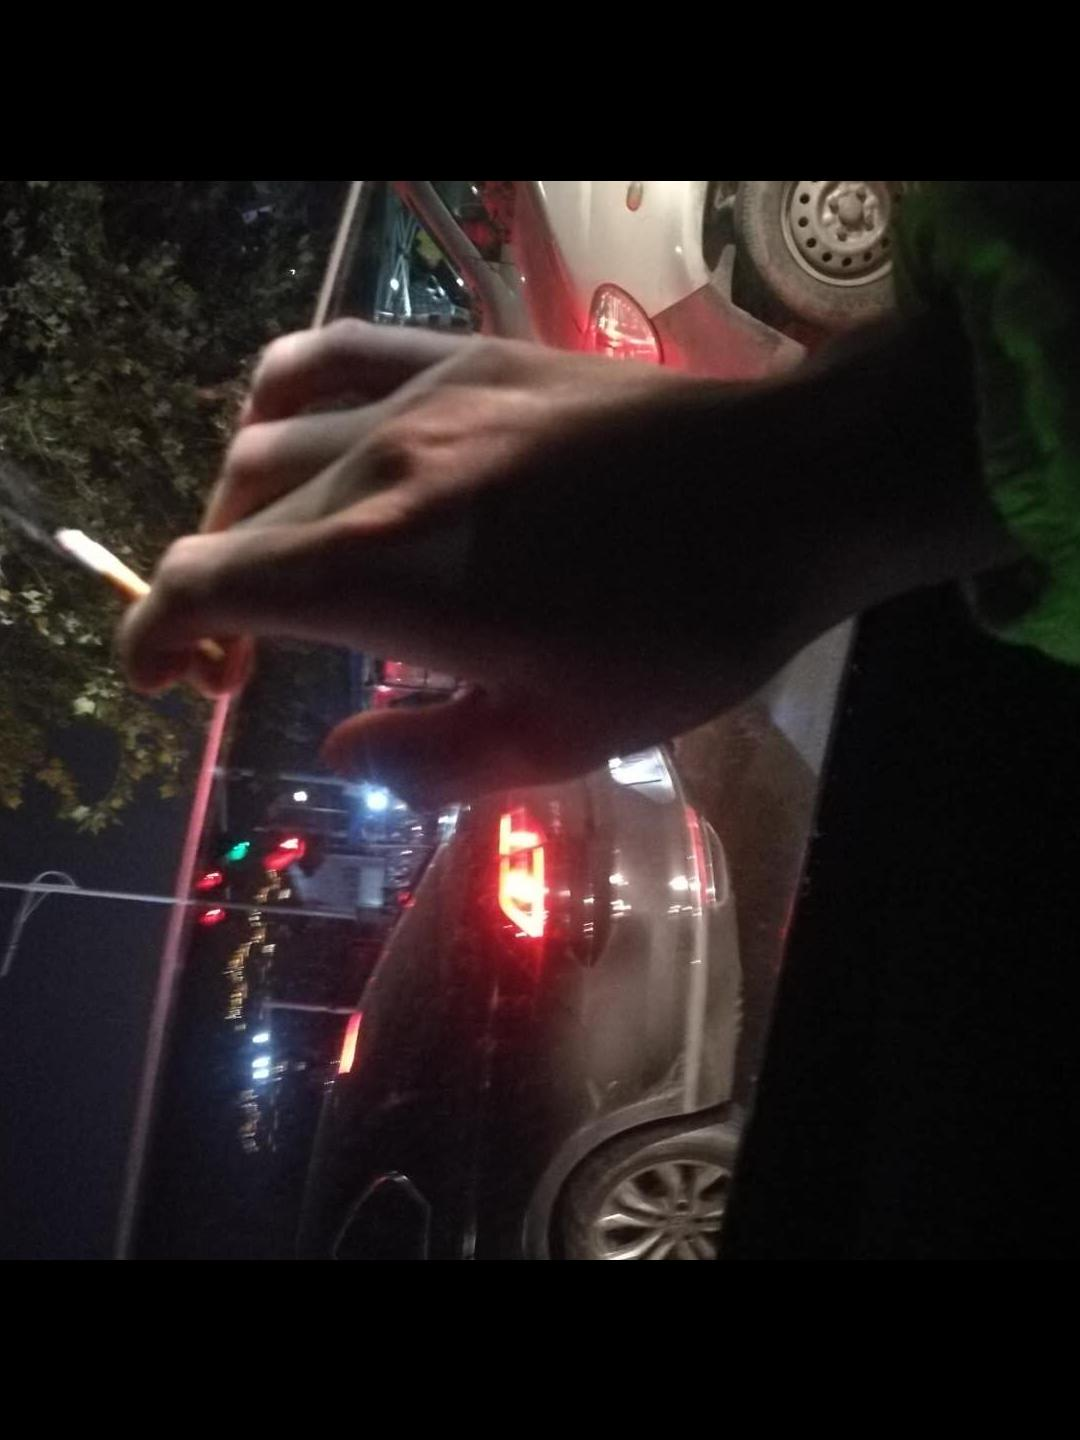Cigarette: (56, 522, 236, 664)
